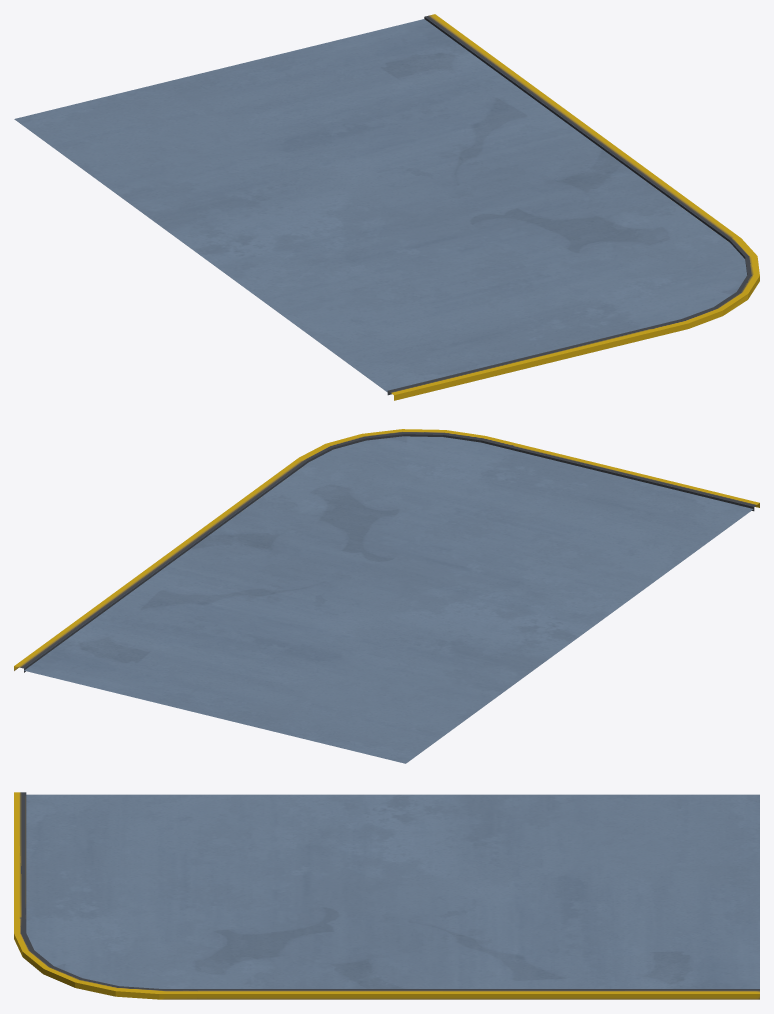
File: SideWalk_Esquina.fbx
3 views of the same model, one above another, from view 1: azimuth 30°, elevation 25°; view 2: azimuth 150°, elevation 25°; view 3: azimuth 270°, elevation 25° (orthographic). The views are drawn at different scales.
Parts seen in each view (by area): view 1: side_walk_tile; view 2: side_walk_tile; view 3: side_walk_tile.
Part boxes in pixels (box(x1,y1,x2,y2)): side_walk_tile: box(14, 14, 759, 400); side_walk_tile: box(14, 429, 759, 763); side_walk_tile: box(14, 792, 759, 999).
Size of the model in its own units: 19.52 by 0.2602 by 30.5.
